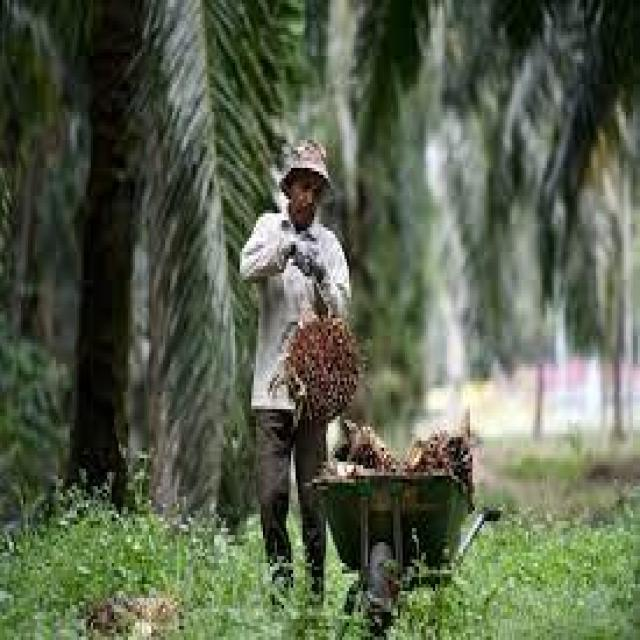Ripefruit: (290, 311, 364, 416)
